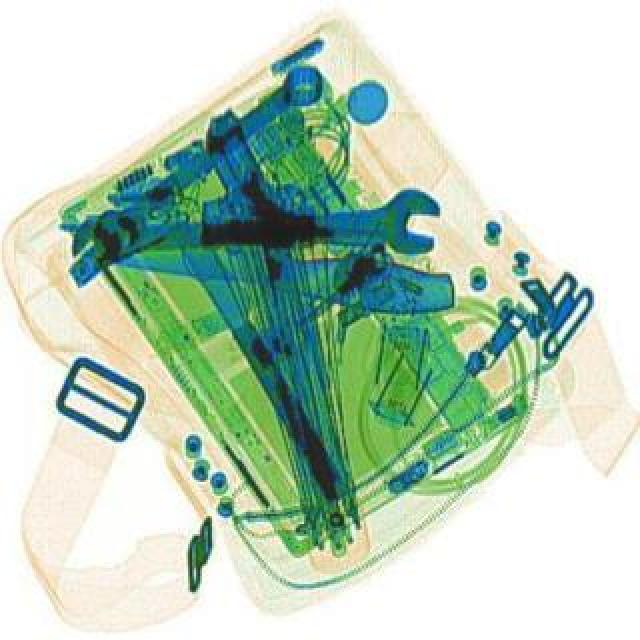gun: (196, 106, 318, 244)
knife: (150, 190, 350, 500), (104, 226, 456, 318)
scissors: (58, 54, 332, 276), (96, 188, 440, 256)
